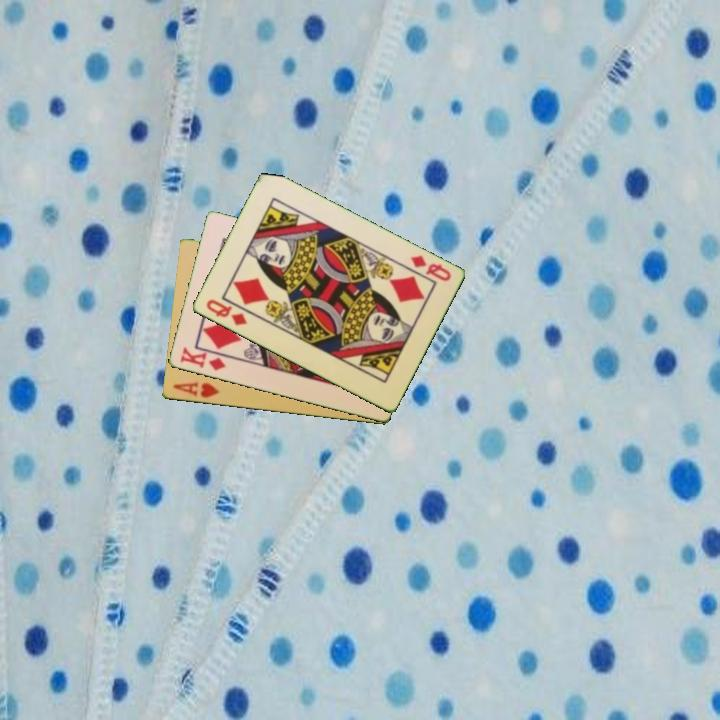Ah: (169, 378, 221, 401)
Kd: (176, 344, 228, 374)
Qd: (202, 296, 250, 328), (407, 252, 453, 285)
